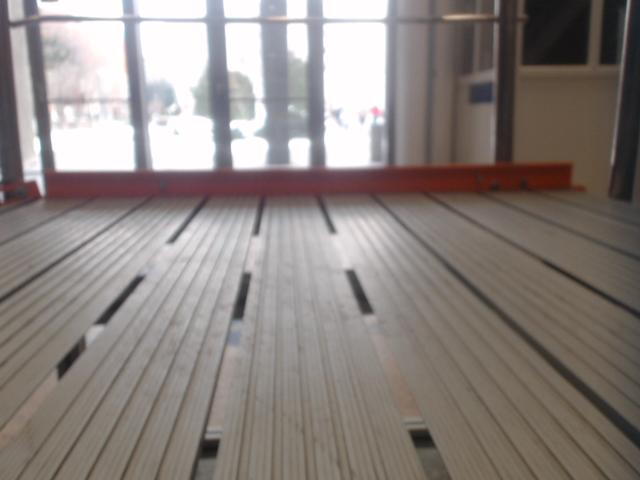rampDown: (0, 164, 639, 479)
ramps-railing: (9, 0, 525, 160)
